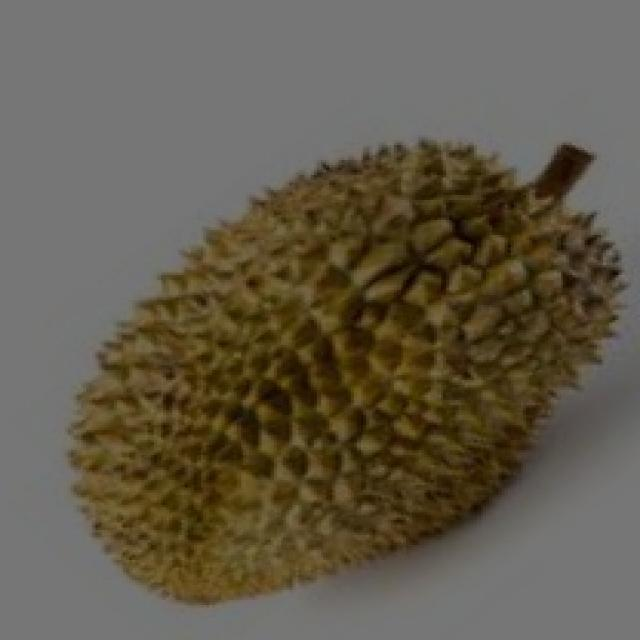fruit: (240, 165, 637, 623), (22, 262, 376, 638)
